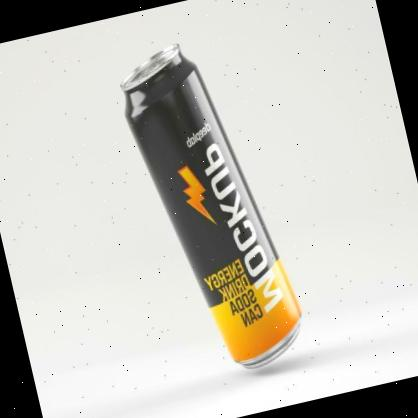can: (108, 26, 314, 387)
